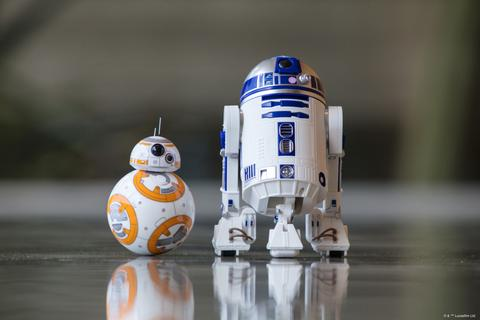r2d2: (217, 56, 348, 249)
